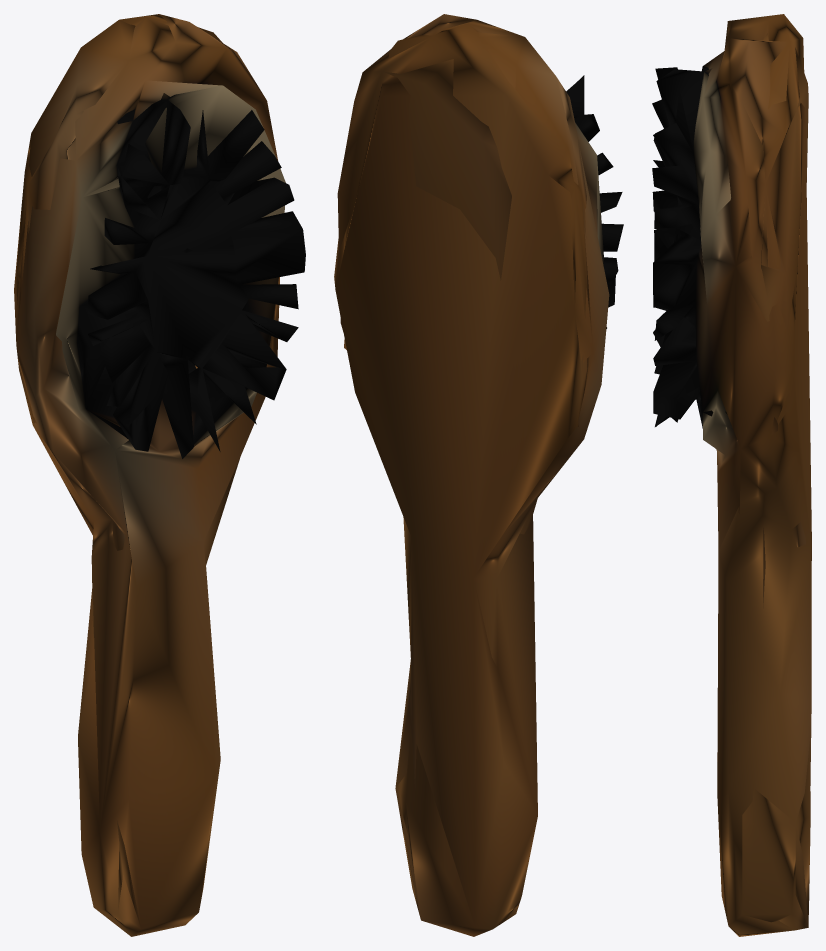
Rendered from gen3d-hairbrush-lod1.glb.
3 views of the same model, side by side, from view 1: azimuth 30°, elevation 25°; view 2: azimuth 150°, elevation 25°; view 3: azimuth 270°, elevation 25° (orthographic).
Visible parts, largest first — view 1: part_0; view 2: part_0; view 3: part_0.
Boxes of the visible parts, x1,y1,x2,y2 form: part_0: [14, 14, 305, 936]; part_0: [334, 14, 623, 936]; part_0: [652, 14, 811, 936].
Size of the model in its own units: 0.2987 by 0.9968 by 0.1597.
